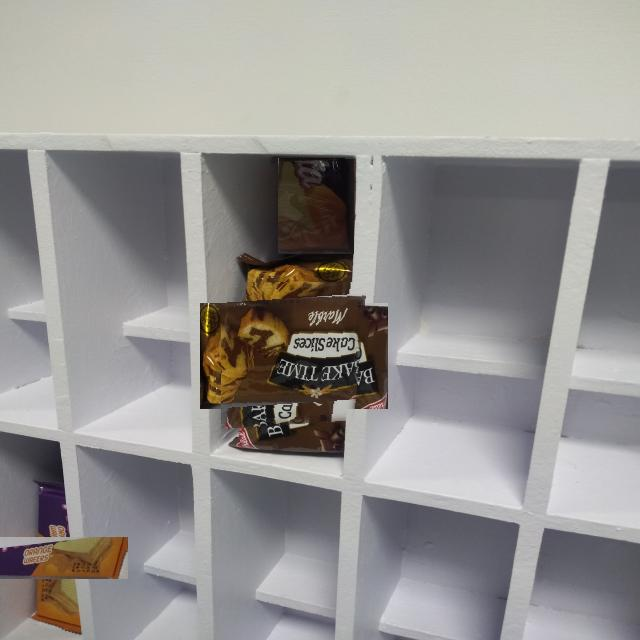Plastic: (221, 282, 368, 430), (9, 510, 102, 605), (277, 157, 354, 254)
